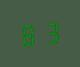eight: (19, 21, 39, 47)
three: (40, 20, 60, 45)
